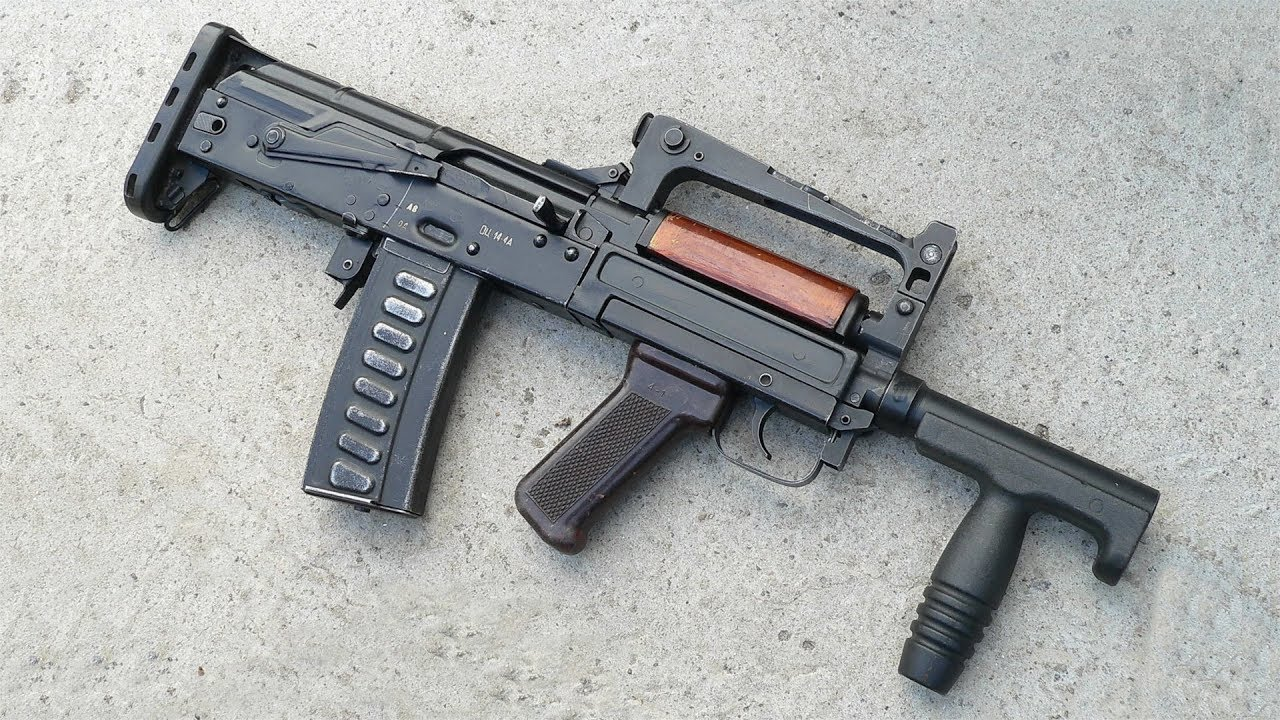Arma Real: (123, 23, 1166, 695)
